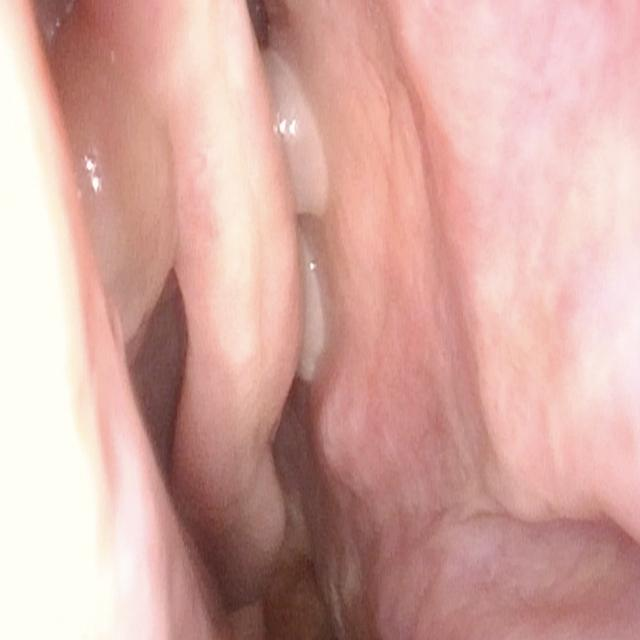OPENING: (116, 253, 200, 493)
POLYPS: (40, 12, 187, 363), (246, 32, 340, 223), (277, 221, 345, 416)
